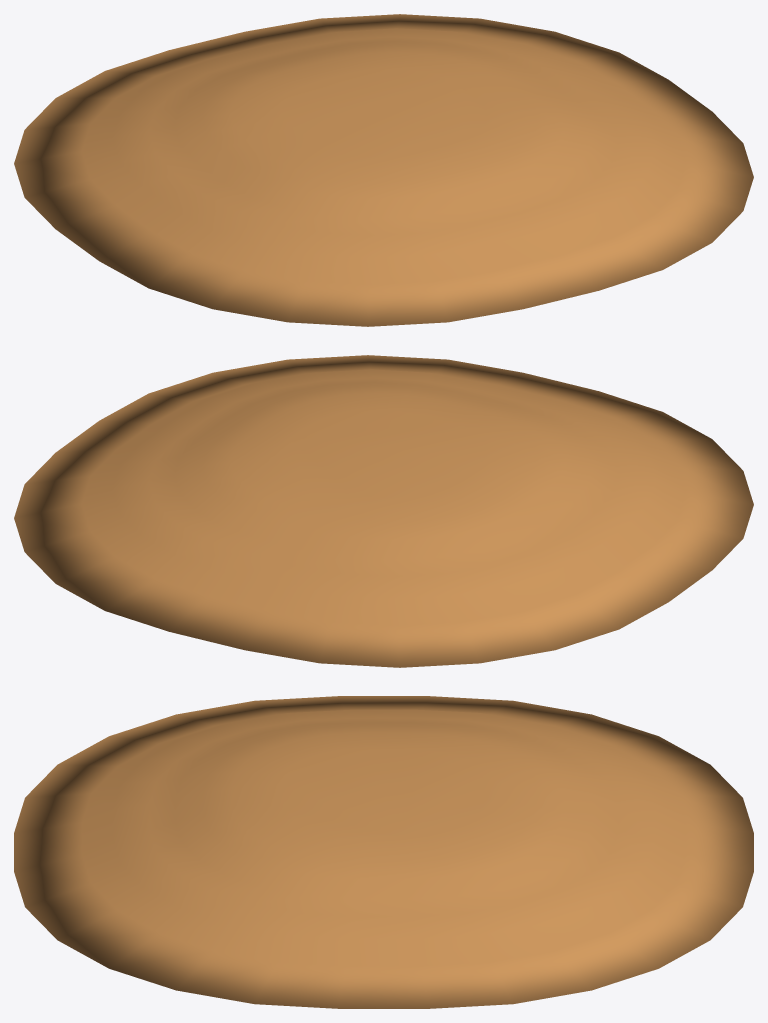
The model's file is island_DESERT.fbx.
The picture shows the model from 3 angles, top to bottom: view 1: azimuth 30°, elevation 25°; view 2: azimuth 150°, elevation 25°; view 3: azimuth 270°, elevation 25°; orthographic projection. The views are drawn at different scales.
Visible parts, largest first — view 1: island_DESERT; view 2: island_DESERT; view 3: island_DESERT.
Part boxes in pixels (left/top/right/bottom): island_DESERT: left=14, top=14, right=753, bottom=326; island_DESERT: left=14, top=355, right=753, bottom=667; island_DESERT: left=14, top=696, right=753, bottom=1008.
Size of the model in its own units: 428 by 428 by 38.38.
